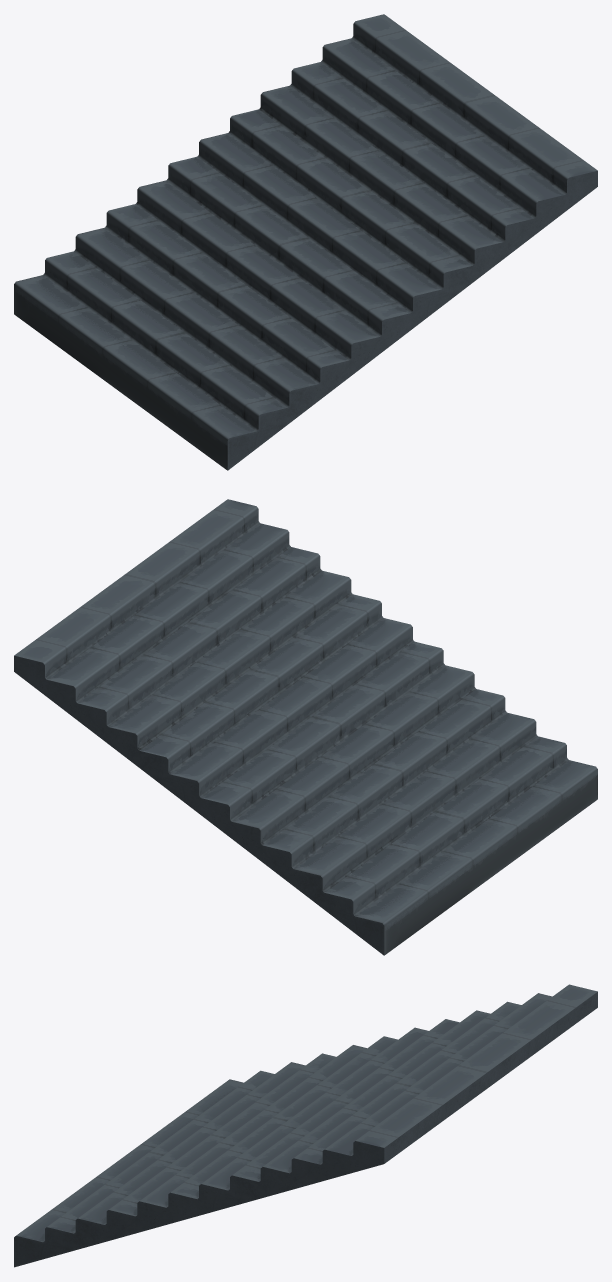
Rendered from Stairs.fbx.
3 renders of one model, top to bottom at view 1: azimuth 30°, elevation 25°; view 2: azimuth 150°, elevation 25°; view 3: azimuth 330°, elevation 25°, orthographic.
Parts seen in each view (by area): view 1: Stairs; view 2: Stairs; view 3: Stairs.
Boxes of the visible parts, x1,y1,x2,y2 form: Stairs: [14, 14, 597, 470]; Stairs: [14, 499, 597, 955]; Stairs: [14, 984, 597, 1267].
Size of the model in its own units: 500 by 271 by 500.
1 material, 1 textured.
